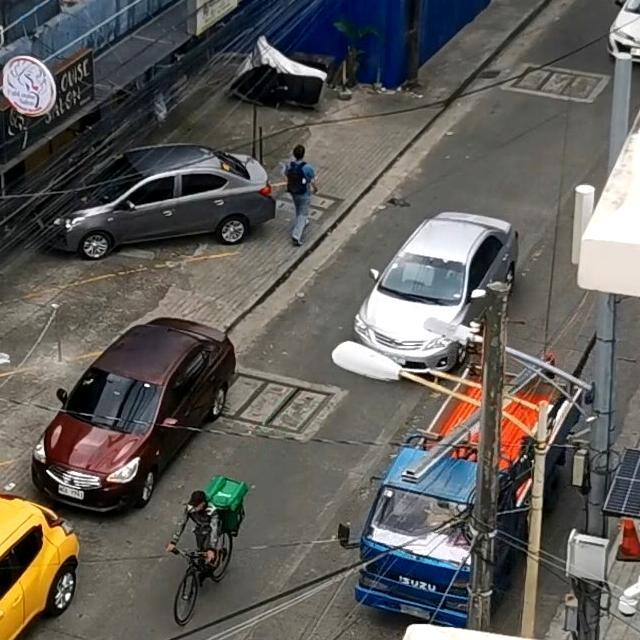Truck: (338, 350, 550, 619)
